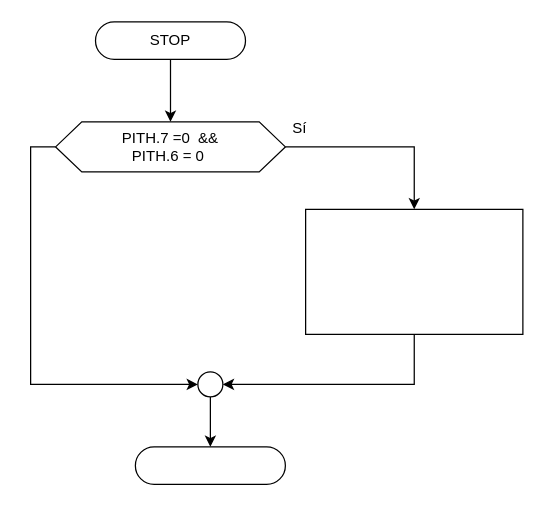
Some shapes in this 545 by 506 pixel diagram are drawn without their labels. Each missing label, with the box of its shape:
*Apagar LCD* J <- B_MSG1 K <- B_MSG2 LEDS <- $04: (304, 208, 523, 334)
RETORNAR: (134, 446, 285, 484)
